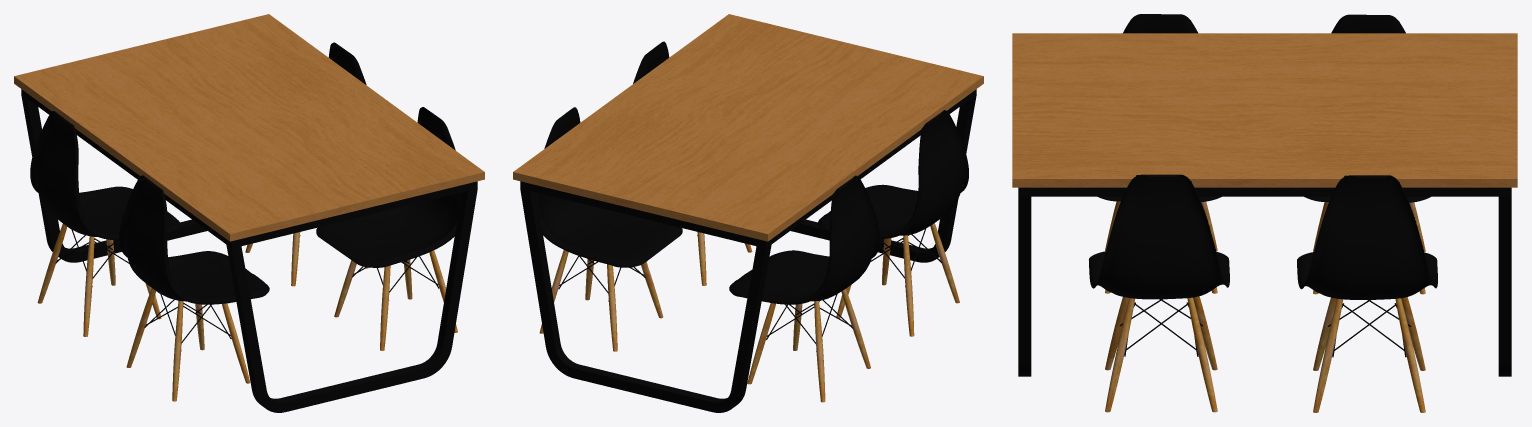
Rendered from mesaecadeiras001.glb.
The picture shows the model from 3 angles, left to right: view 1: azimuth 30°, elevation 25°; view 2: azimuth 150°, elevation 25°; view 3: azimuth 270°, elevation 25°; orthographic projection. The views are drawn at different scales.
Visible parts, largest first — view 1: Tabua\Sólido, Cadeira 2\Sólido.001, Pernas\Sólido2 (2), Cadeira 2\Sólido, Pernas\Sólido2, Suporte\Sólido (3), Pattern (Padrão)\Componente1\Sólido (2).001, Pattern (Padrão)\Componente1\Sólido.001, Suporte\Sólido (2), Pattern (Padrão)\Componente1\Sólido (4).001, Pattern (Padrão)\Componente1\Sólido, Pattern (Padrão)\Componente1\Sólido (3).001 (+2 smaller); view 2: Tabua\Sólido, Cadeira 2\Sólido, Pernas\Sólido2, Cadeira 2\Sólido.001, Pernas\Sólido2 (2), Suporte\Sólido (4), Pattern (Padrão)\Componente1\Sólido (3), Pattern (Padrão)\Componente1\Sólido (4), Suporte\Sólido (2), Pattern (Padrão)\Componente1\Sólido, Pattern (Padrão)\Componente1\Sólido (4).001, Pattern (Padrão)\Componente1\Sólido (2) (+2 smaller); view 3: Tabua\Sólido, Cadeira 2\Sólido.001, Cadeira 2\Sólido, Suporte\Sólido, Pernas\Sólido2, Pernas\Sólido2 (2), Pattern (Padrão)\Componente1\Sólido (4).001, Pattern (Padrão)\Componente1\Sólido (4), Pattern (Padrão)\Componente1\Sólido.001, Pattern (Padrão)\Componente1\Sólido, Pattern (Padrão)\Componente1\Sólido (3), Pattern (Padrão)\Componente1\Sólido (3).001 (+2 smaller).
Boxes of the visible parts, box(x1,y1,x2,y2) form: Tabua\Sólido: box(14, 14, 484, 241); Cadeira 2\Sólido.001: box(119, 107, 461, 304); Pernas\Sólido2 (2): box(226, 188, 477, 412); Cadeira 2\Sólido: box(30, 42, 366, 240); Pernas\Sólido2: box(21, 94, 207, 262); Suporte\Sólido (3): box(232, 181, 477, 248); Pattern (Padrão)\Componente1\Sólido (2).001: box(222, 265, 390, 383); Pattern (Padrão)\Componente1\Sólido.001: box(172, 250, 457, 401); Suporte\Sólido (2): box(21, 89, 231, 248); Pattern (Padrão)\Componente1\Sólido (4).001: box(126, 259, 412, 367); Pattern (Padrão)\Componente1\Sólido: box(83, 236, 368, 336); Pattern (Padrão)\Componente1\Sólido (3).001: box(195, 260, 356, 350); Tabua\Sólido: box(513, 14, 983, 241); Cadeira 2\Sólido: box(536, 107, 880, 304); Pernas\Sólido2: box(520, 188, 771, 412); Cadeira 2\Sólido.001: box(633, 41, 968, 238); Pernas\Sólido2 (2): box(790, 94, 976, 262); Suporte\Sólido (4): box(520, 181, 765, 248); Pattern (Padrão)\Componente1\Sólido (3): box(607, 264, 775, 384); Pattern (Padrão)\Componente1\Sólido (4): box(539, 250, 825, 402); Suporte\Sólido (2): box(766, 89, 976, 248); Pattern (Padrão)\Componente1\Sólido: box(585, 259, 870, 368); Pattern (Padrão)\Componente1\Sólido (4).001: box(631, 235, 914, 336); Pattern (Padrão)\Componente1\Sólido (2): box(641, 262, 802, 350); Tabua\Sólido: box(1012, 33, 1517, 187); Cadeira 2\Sólido.001: box(1089, 14, 1229, 299); Cadeira 2\Sólido: box(1297, 14, 1437, 299); Suporte\Sólido: box(1018, 187, 1511, 196); Pernas\Sólido2: box(1498, 196, 1511, 376); Pernas\Sólido2 (2): box(1018, 196, 1031, 376); Pattern (Padrão)\Componente1\Sólido (4).001: box(1187, 201, 1217, 412); Pattern (Padrão)\Componente1\Sólido (4): box(1395, 202, 1425, 412); Pattern (Padrão)\Componente1\Sólido.001: box(1105, 201, 1134, 412); Pattern (Padrão)\Componente1\Sólido: box(1313, 202, 1343, 412); Pattern (Padrão)\Componente1\Sólido (3): box(1401, 288, 1425, 370); Pattern (Padrão)\Componente1\Sólido (3).001: box(1193, 287, 1217, 370).
Size of the model in its own units: 1.19 by 0.7593 by 1.46.
Materials: 5 (2 with a texture image).
